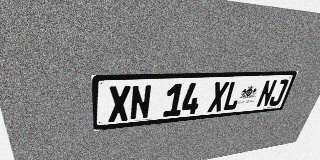1: (163, 83, 186, 117)
4: (181, 83, 203, 115)
J: (268, 79, 289, 106)
L: (222, 81, 244, 111)
N: (130, 85, 152, 120), (256, 80, 278, 108)
X: (108, 85, 131, 122), (207, 81, 230, 112)
